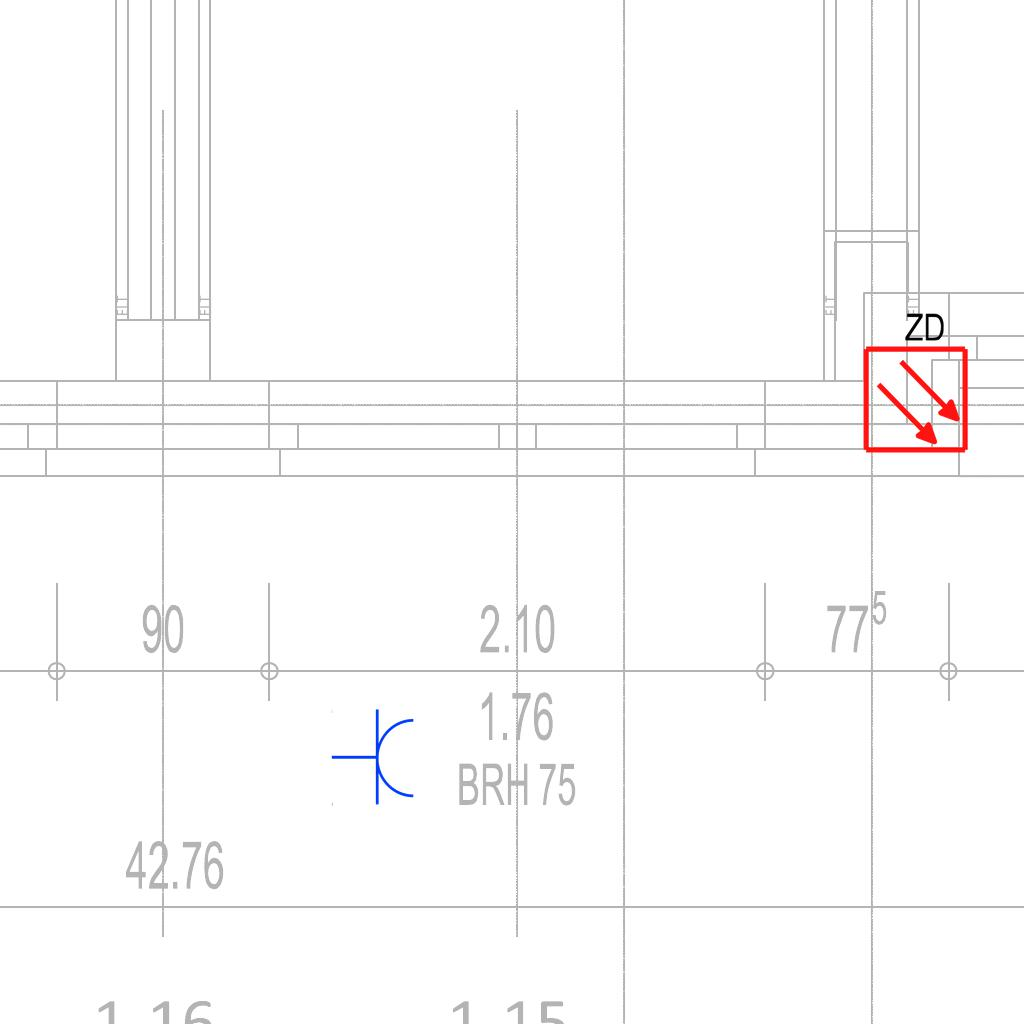Schukosteckdose_einfach: (331, 708, 418, 808)
ZD_Melder_in_Zwischendecke_mit_Revisionsoeffnung_mind_40_x_40_cm: (857, 306, 971, 455)
